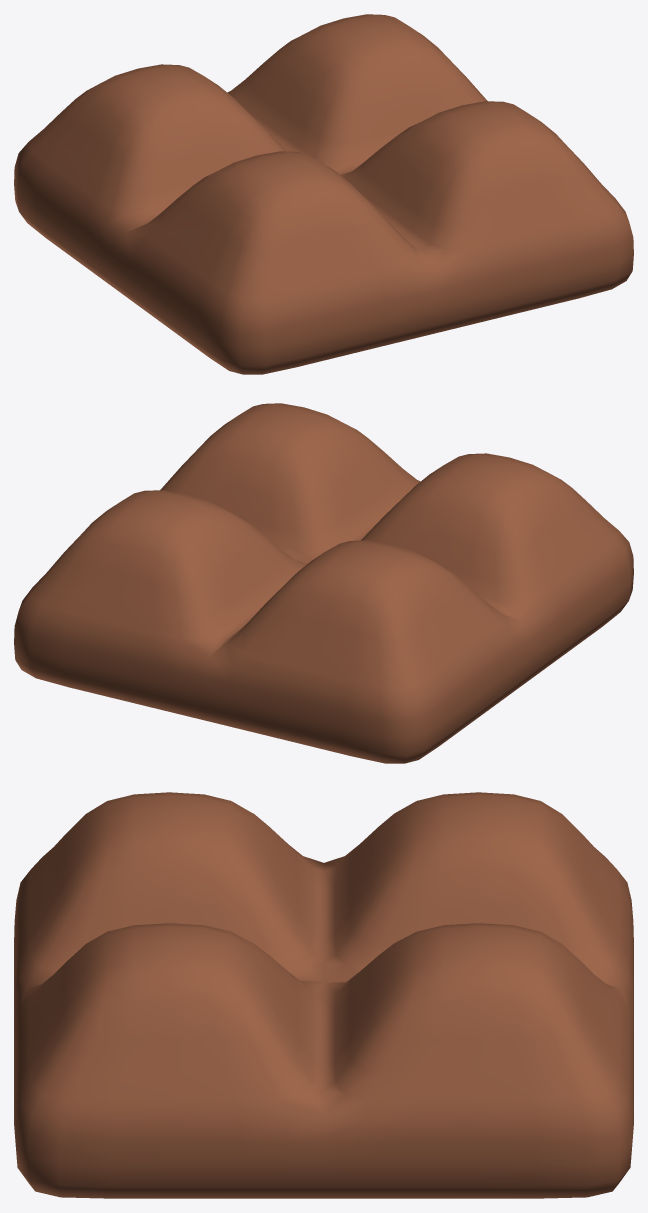
Rendered from Chocmilk_03.fbx.
3 renders of one model, top to bottom at view 1: azimuth 30°, elevation 25°; view 2: azimuth 150°, elevation 25°; view 3: azimuth 270°, elevation 25°, orthographic. The views are drawn at different scales.
Visible parts, largest first — view 1: Chocmilk_03_LOD0; view 2: Chocmilk_03_LOD0; view 3: Chocmilk_03_LOD0.
Part boxes in pixels (<box>): Chocmilk_03_LOD0: <box>14,14,633,374</box>; Chocmilk_03_LOD0: <box>14,403,633,763</box>; Chocmilk_03_LOD0: <box>14,792,633,1198</box>.
Size of what is drawn, in the model's own units: 570 by 212 by 570.
